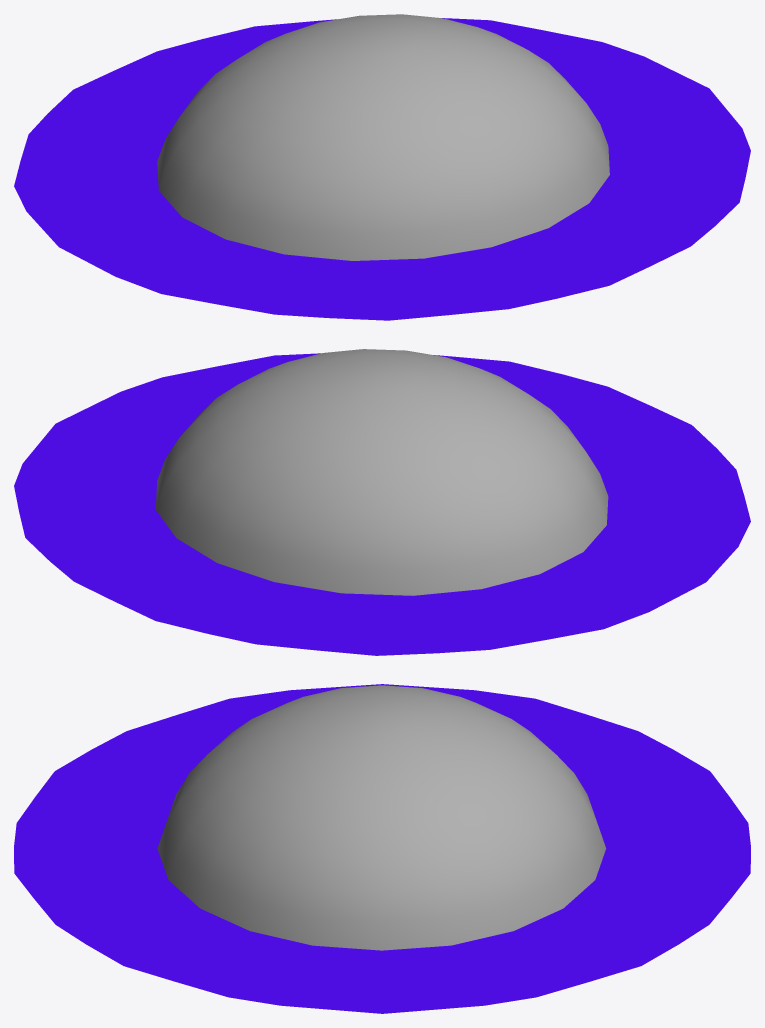
The model's file is CopolaAndRoof.fbx.
The picture shows the model from 3 angles, top to bottom: view 1: azimuth 30°, elevation 25°; view 2: azimuth 150°, elevation 25°; view 3: azimuth 270°, elevation 25°; orthographic projection. The views are drawn at different scales.
Visible parts, largest first — view 1: polySurface1889; view 2: polySurface1889; view 3: polySurface1889.
Part boxes in pixels (x1,y1,x2,y2): polySurface1889: (14, 14, 750, 320); polySurface1889: (14, 349, 750, 655); polySurface1889: (14, 684, 750, 1013).
Bounding box in the file's own units: 1738 × 326 × 1641.
